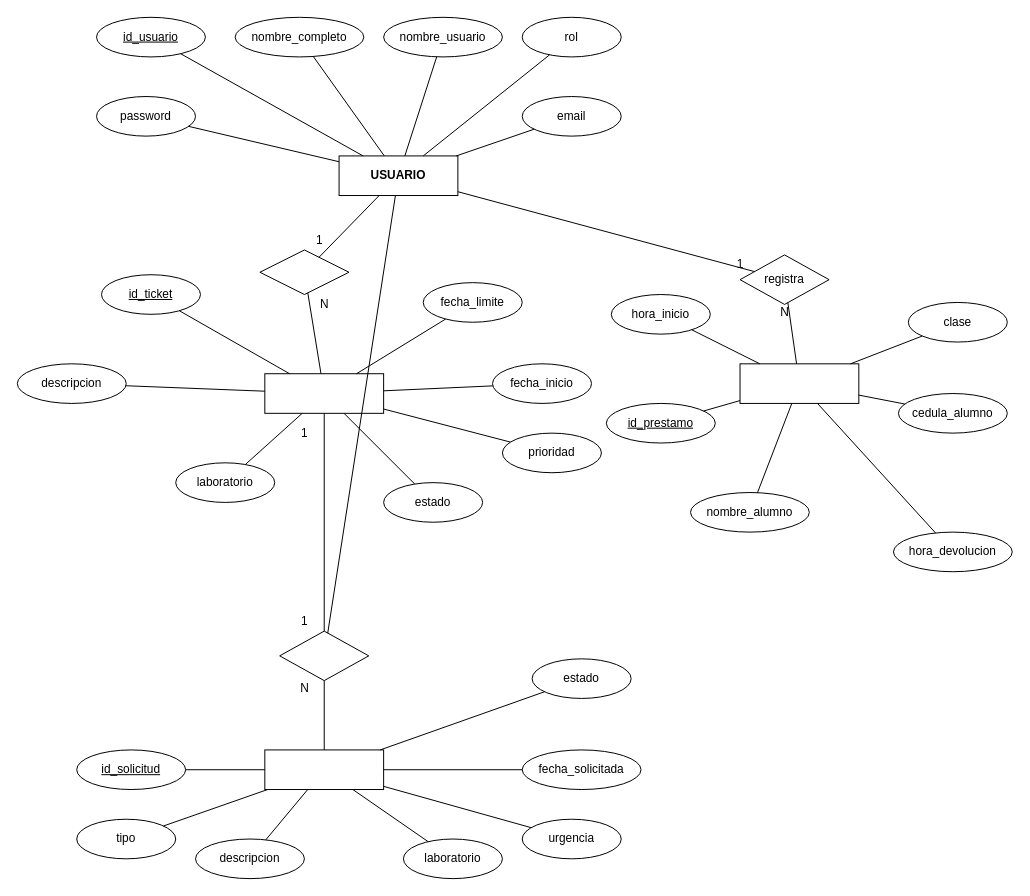
Some shapes in this 1030 by 896 pixel diagram are drawn without their labels. Each missing label, with the centre of its shape:
"crea" belongs at (x=304, y=272).
"PRESTAMO" belongs at (x=799, y=383).
"solicita" belongs at (x=324, y=655).
"SOLICITUD" belongs at (x=324, y=769).
"TICKET" belongs at (x=324, y=393).
